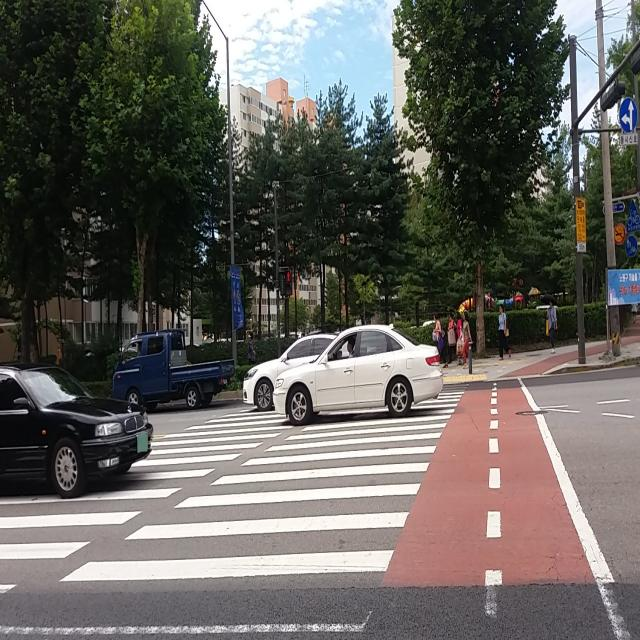빨간불: (280, 268, 292, 296)
횡단보도: (0, 373, 459, 639)
